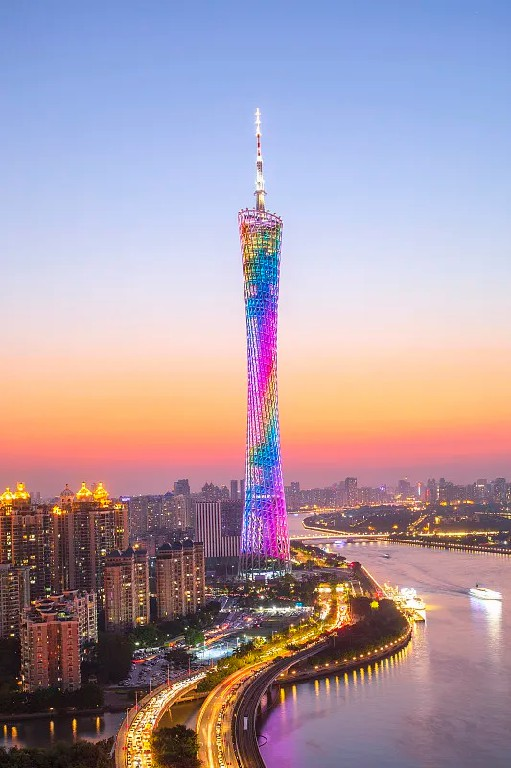Canton: (232, 105, 293, 583)
